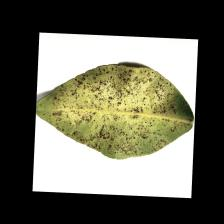canker: (42, 60, 180, 160)
